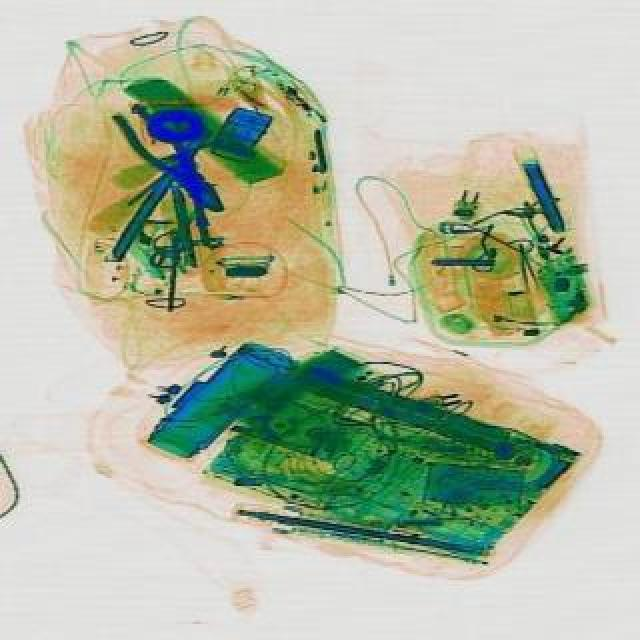wrench: (104, 94, 240, 226)
